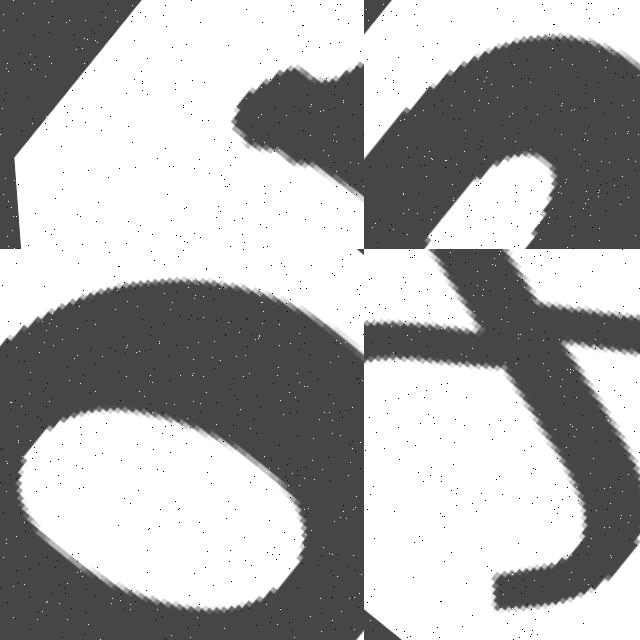O: (0, 249, 364, 640)
S: (364, 0, 640, 249)
V: (223, 64, 364, 210)
X: (364, 249, 640, 640)
